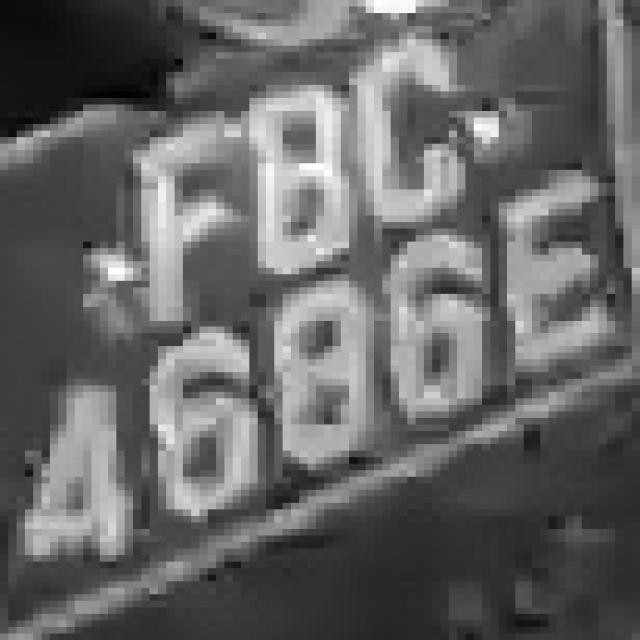4: (0, 346, 150, 588)
6: (108, 294, 283, 516), (358, 209, 490, 418)
8: (232, 268, 390, 483)
B: (216, 65, 333, 288)
C: (324, 20, 482, 235)
E: (466, 157, 598, 359)
F: (100, 78, 241, 320)
